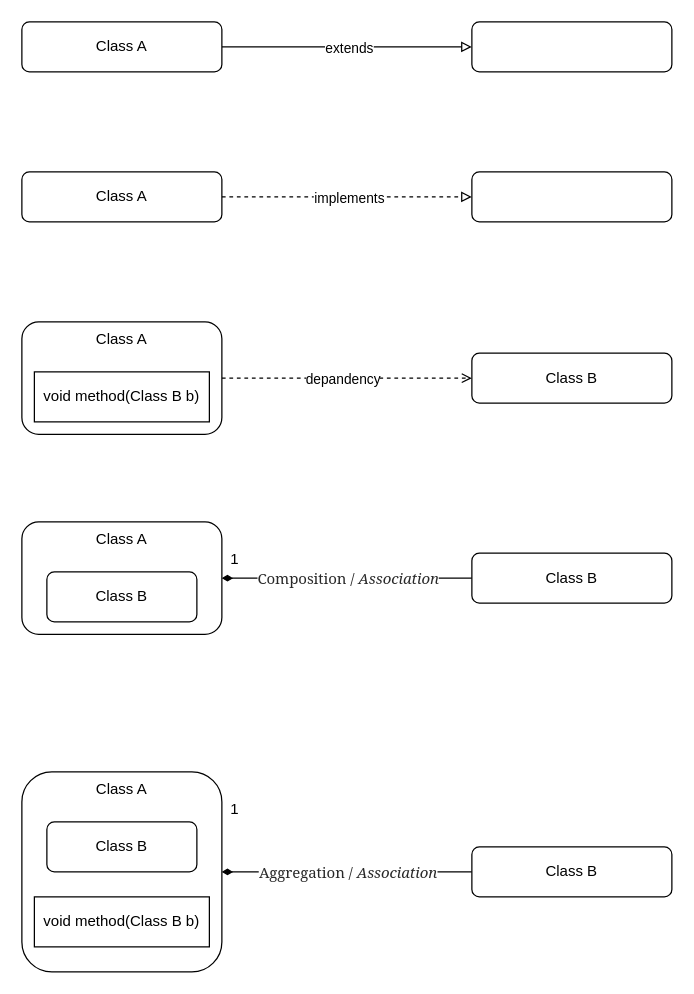
Some shapes in this 694 by 994 pixel diagram are drawn without their labels. The shapes that lost their labels are listed below. From the top down, each one's centre as x and y in pixels, then its label:
At (x=571, y=46): "Super Class".
At (x=571, y=196): "Interface".
